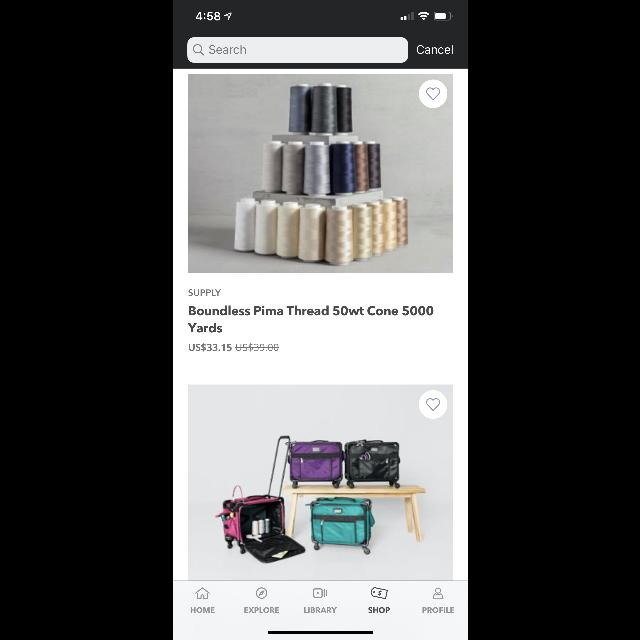icon: (419, 80, 447, 108), (419, 391, 447, 419), (370, 587, 388, 599), (192, 44, 204, 56), (313, 588, 327, 598), (195, 588, 209, 598), (433, 588, 443, 598), (256, 588, 266, 598)
image: (188, 74, 452, 272), (188, 384, 452, 580)
input: (186, 38, 408, 62)
text: (187, 306, 433, 332), (188, 344, 278, 352), (209, 46, 245, 54), (416, 46, 452, 54), (422, 607, 454, 613), (188, 290, 220, 296), (244, 608, 278, 612), (368, 607, 390, 613), (304, 608, 336, 612), (190, 608, 214, 612)
uppertaskbar: (195, 12, 452, 21)
